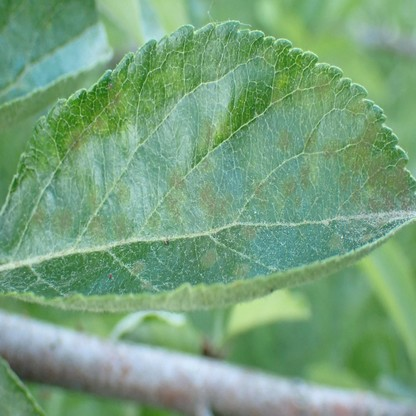powdery_mildew: (350, 212, 416, 228)
scab: (340, 112, 416, 212), (164, 169, 188, 221), (198, 185, 232, 216), (87, 188, 106, 242), (300, 153, 319, 191), (313, 72, 335, 102), (52, 205, 73, 235), (197, 117, 215, 150), (66, 128, 87, 155), (277, 128, 295, 155), (106, 90, 125, 115), (252, 179, 267, 210), (304, 126, 319, 153), (323, 140, 343, 160), (347, 97, 365, 118), (115, 212, 128, 241), (115, 181, 131, 203), (93, 111, 107, 136), (201, 249, 218, 269), (293, 77, 305, 105), (256, 48, 274, 66), (30, 205, 44, 227), (282, 177, 297, 197), (232, 264, 250, 280), (198, 157, 214, 173), (329, 234, 345, 249), (270, 92, 283, 109), (129, 261, 145, 274), (242, 225, 256, 238), (148, 212, 160, 227), (142, 281, 155, 292), (360, 234, 375, 242)
